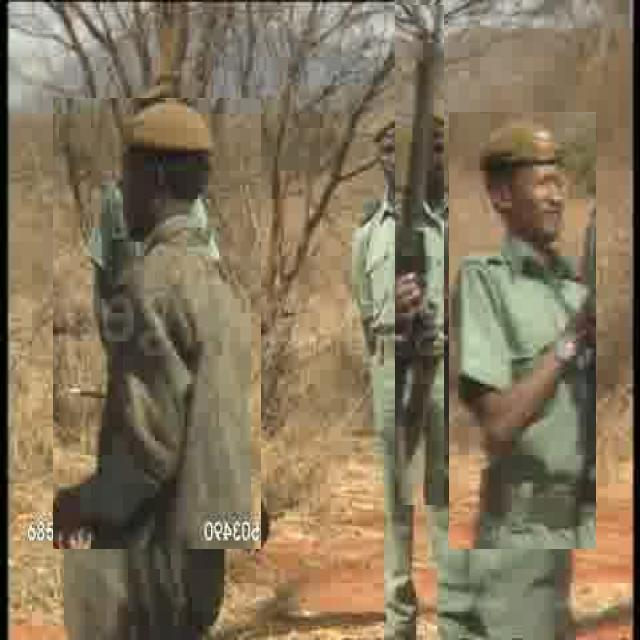poacher: (54, 98, 262, 549), (449, 112, 596, 549), (350, 108, 414, 330)
weapon: (395, 5, 444, 505)
